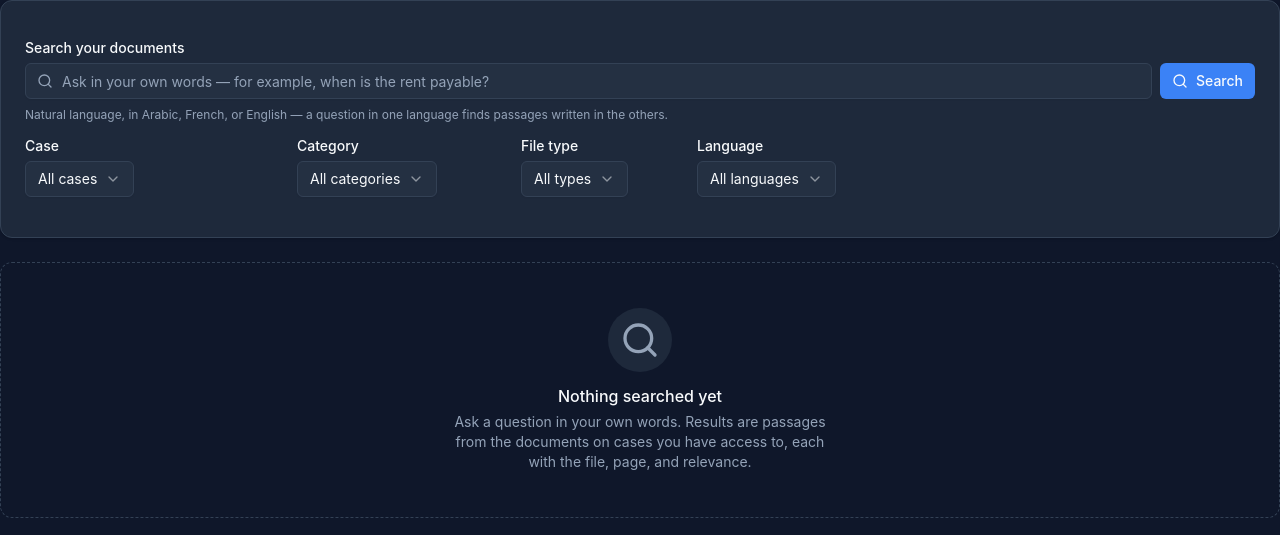
SemanticSearch › explains a disabled deployment
Step 1. Type "loyer payable d'avance" into the search field labelled "Search your documents" → (588, 81), box [25,63,1152,99]
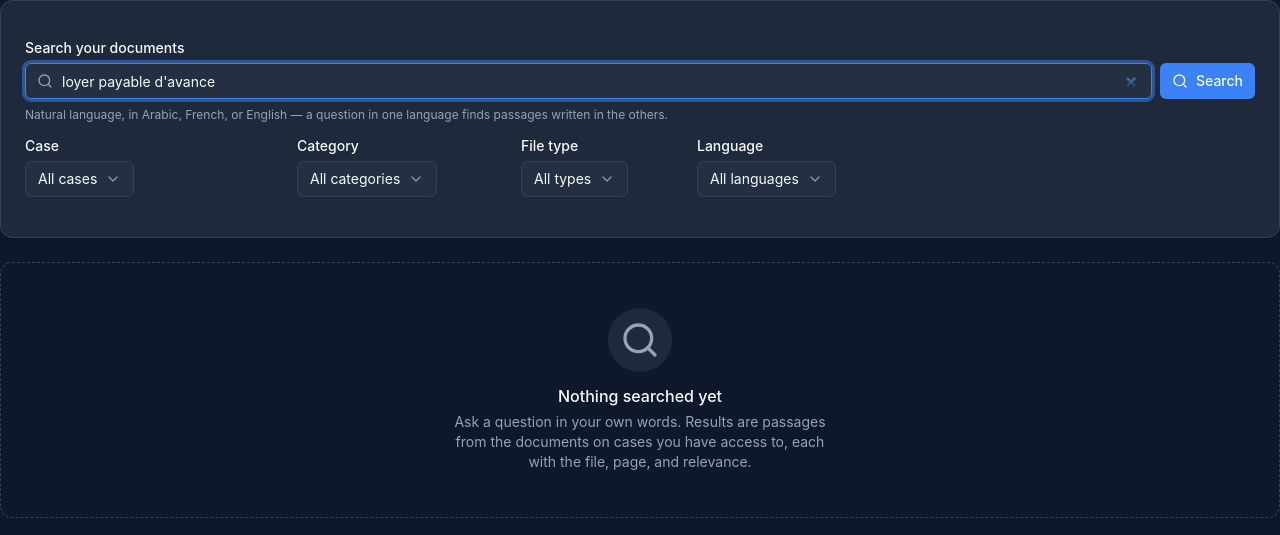
Step 2. Click the button "Search" → (1208, 81), box [1160,63,1255,99]
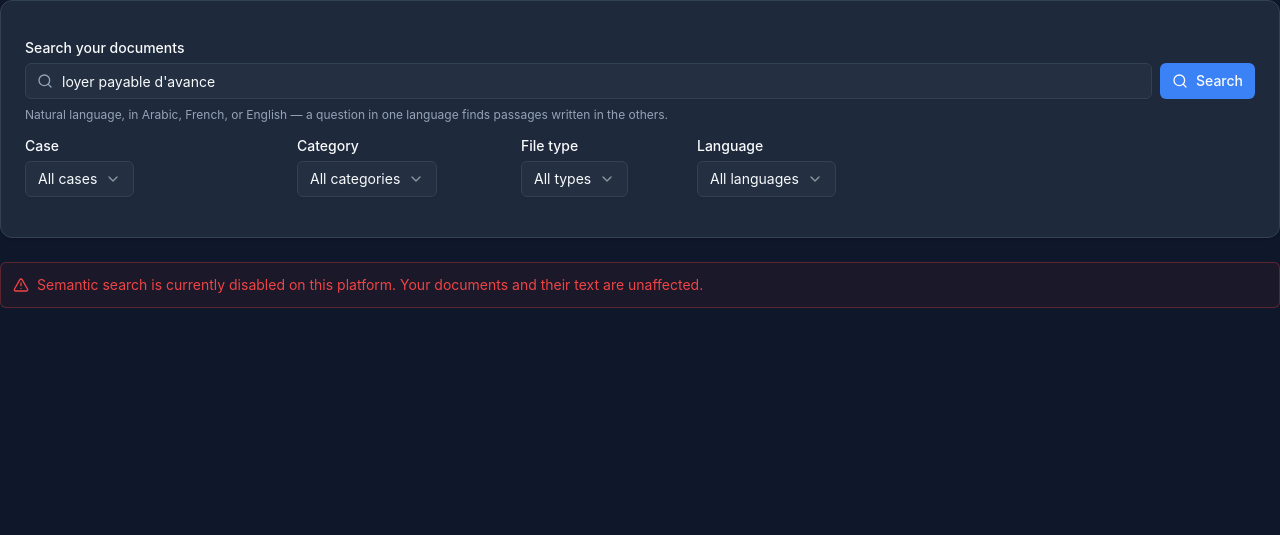
Expected: the message shows "currently disabled", [37,276,396,293]
